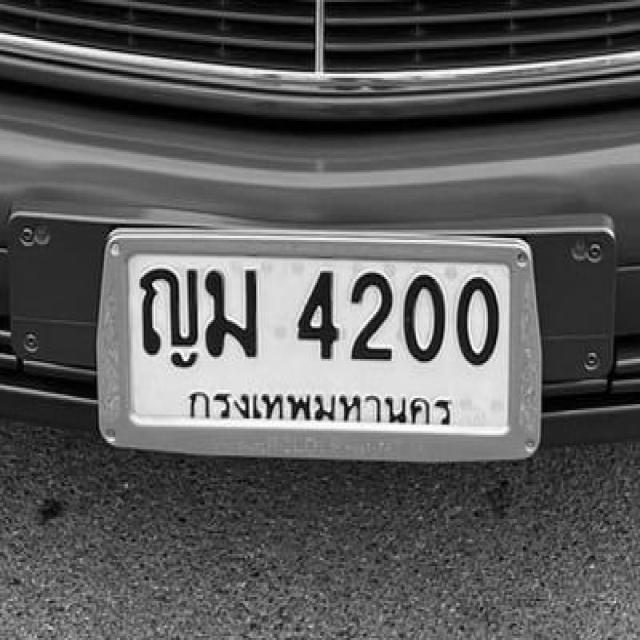plate: (118, 244, 514, 447)
